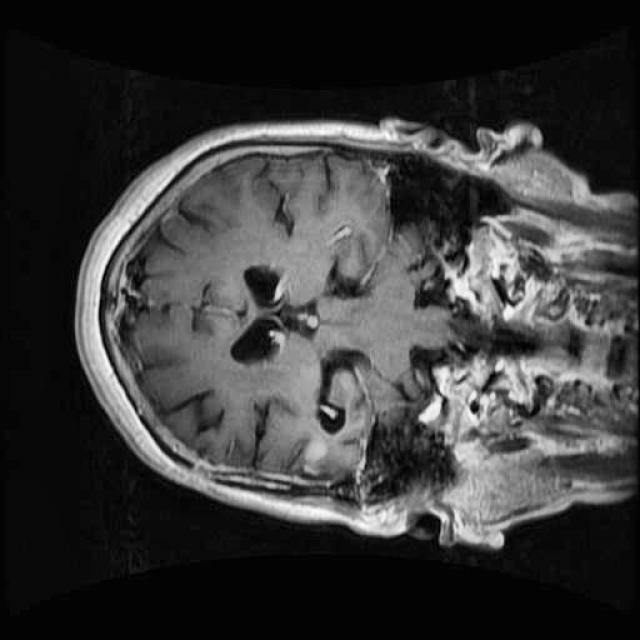Tumor: (298, 431, 332, 481)
